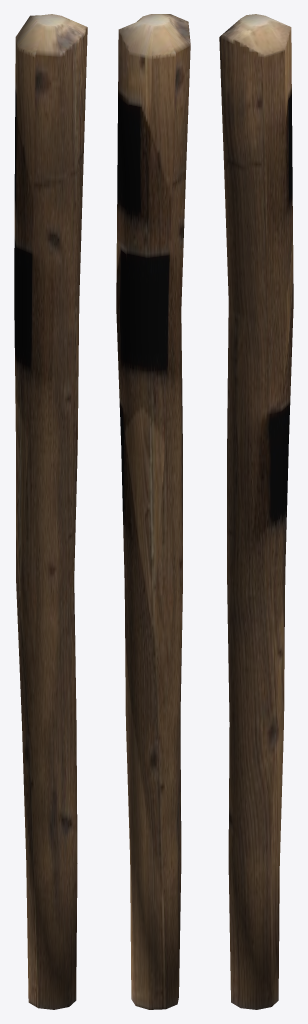
File: signpost.glb
The picture shows the model from 3 angles, left to right: view 1: azimuth 90°, elevation 25°; view 2: azimuth 150°, elevation 25°; view 3: azimuth 330°, elevation 25°; orthographic projection.
Visible parts, largest first — view 1: SIGN; view 2: SIGN; view 3: SIGN.
Part boxes in pixels (<box>): SIGN: <box>14,14,87,1009</box>; SIGN: <box>116,14,190,1009</box>; SIGN: <box>219,14,293,1009</box>.
Bounding box in the file's own units: 0.2023 × 3.02 × 0.2055.
1 material, 1 textured.
